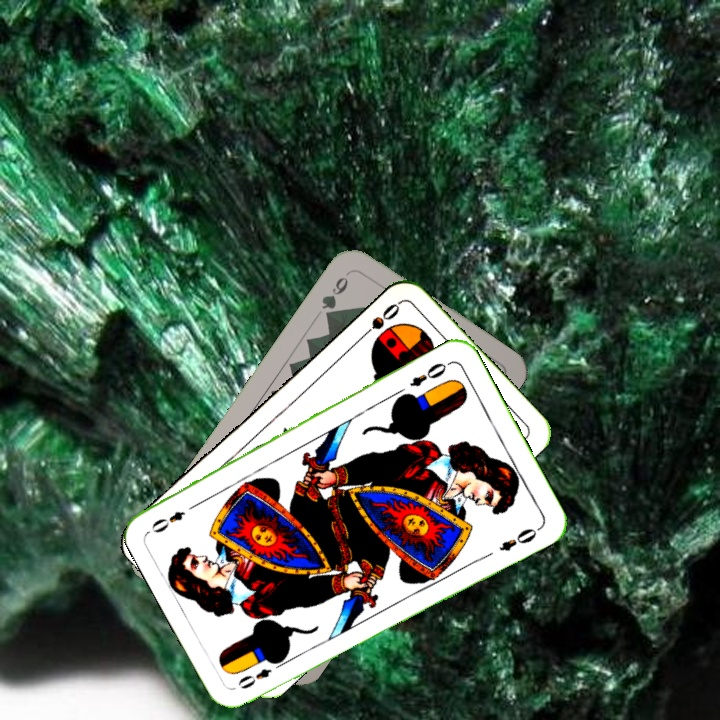EO: (233, 656, 287, 692), (406, 357, 454, 390)
G9: (317, 266, 354, 323)
SO: (354, 298, 402, 343)
